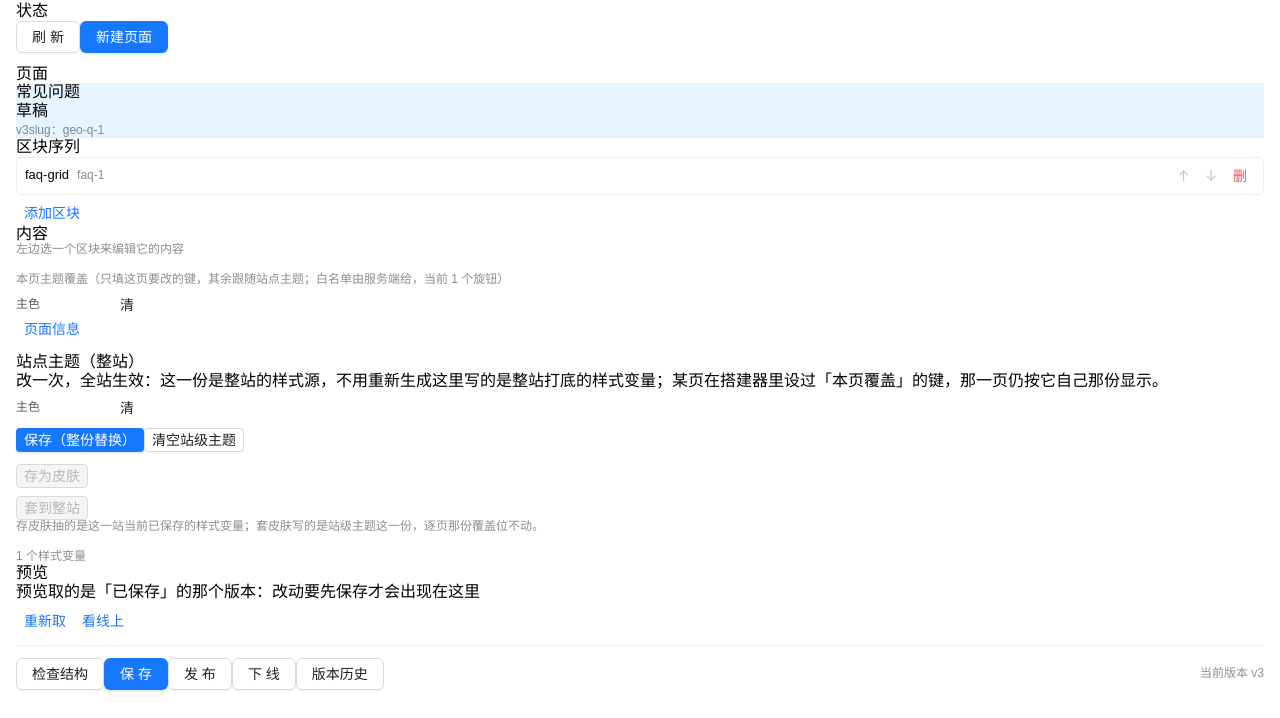
Test: 页面搭建：另持建设码的平台侧 › 区块白名单与样式变量都去取，新建页面与保存回来了
(page scrolled)
Click the button "版本历史": (340, 674) [296, 658, 384, 690]
(page scrolled)
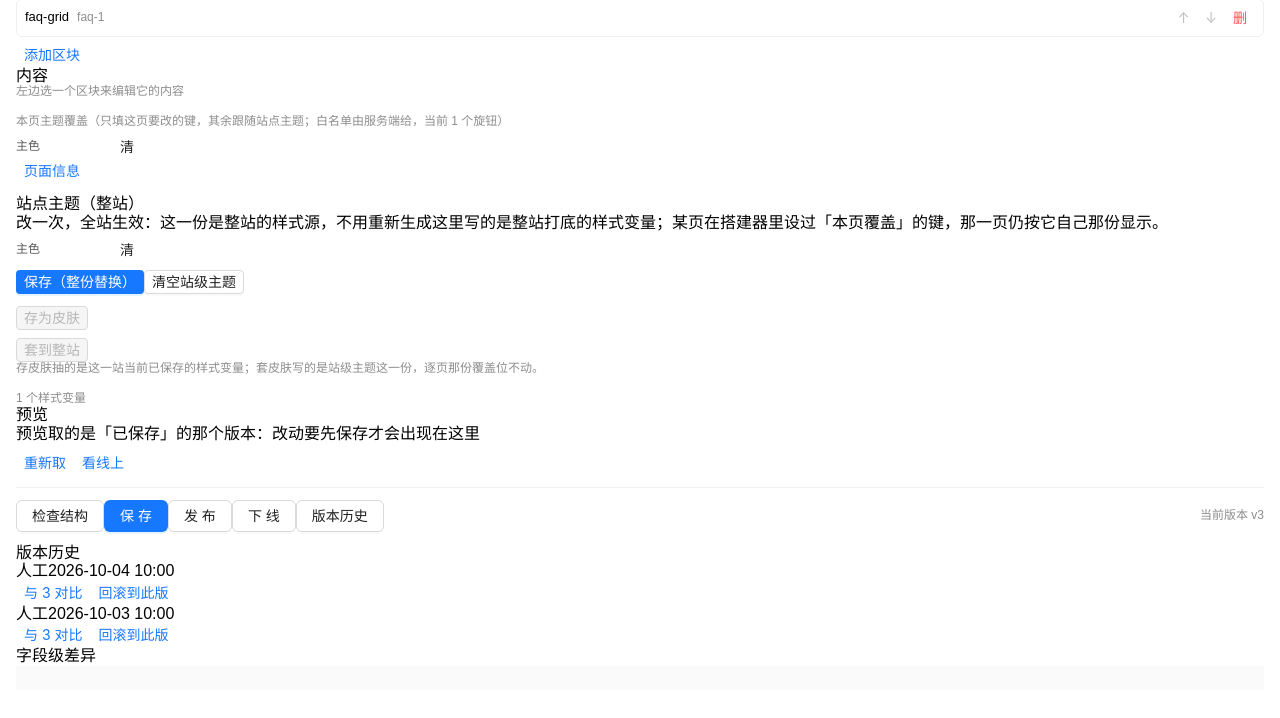
Check: the element with class "a-drawer-stub" shows "回滚到此版", box [90, 581, 176, 605]
